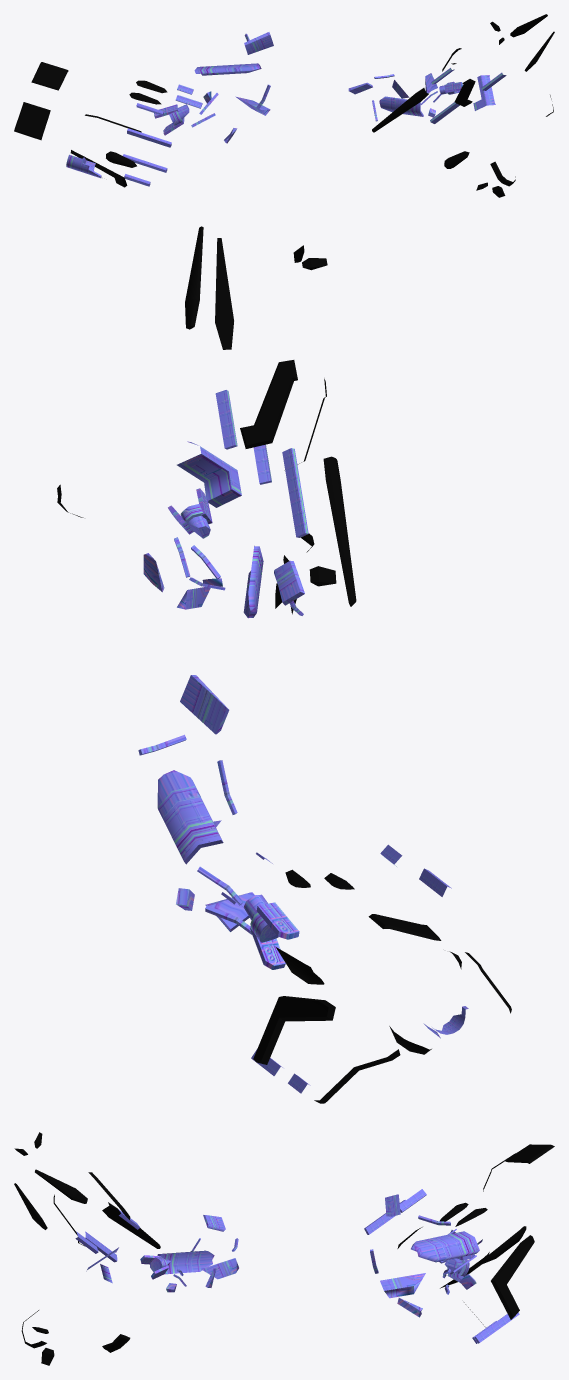
The model's file is ama_ship_wreck_01_10.glb.
3 views of the same model, one above another, from view 1: azimuth 30°, elevation 25°; view 2: azimuth 150°, elevation 25°; view 3: azimuth 270°, elevation 25° (orthographic). The views are drawn at different scales.
Parts seen in each view (by area): view 1: ama_ship_wreck_debris_01_10_LOD0, ama_ship_wreck_01_10_LOD0; view 2: ama_ship_wreck_debris_01_10_LOD0, ama_ship_wreck_01_10_LOD0; view 3: ama_ship_wreck_debris_01_10_LOD0, ama_ship_wreck_01_10_LOD0.
Part boxes in pixels (x1,y1,x2,y2): ama_ship_wreck_debris_01_10_LOD0: (66, 32, 506, 186); ama_ship_wreck_01_10_LOD0: (14, 14, 554, 197); ama_ship_wreck_debris_01_10_LOD0: (138, 390, 468, 1093); ama_ship_wreck_01_10_LOD0: (57, 226, 511, 1103); ama_ship_wreck_debris_01_10_LOD0: (75, 1189, 519, 1343); ama_ship_wreck_01_10_LOD0: (14, 1132, 554, 1365).
Size of what is drawn, in the model's own units: 12.75 by 8.04 by 12.5.
2 materials, 2 textured.
